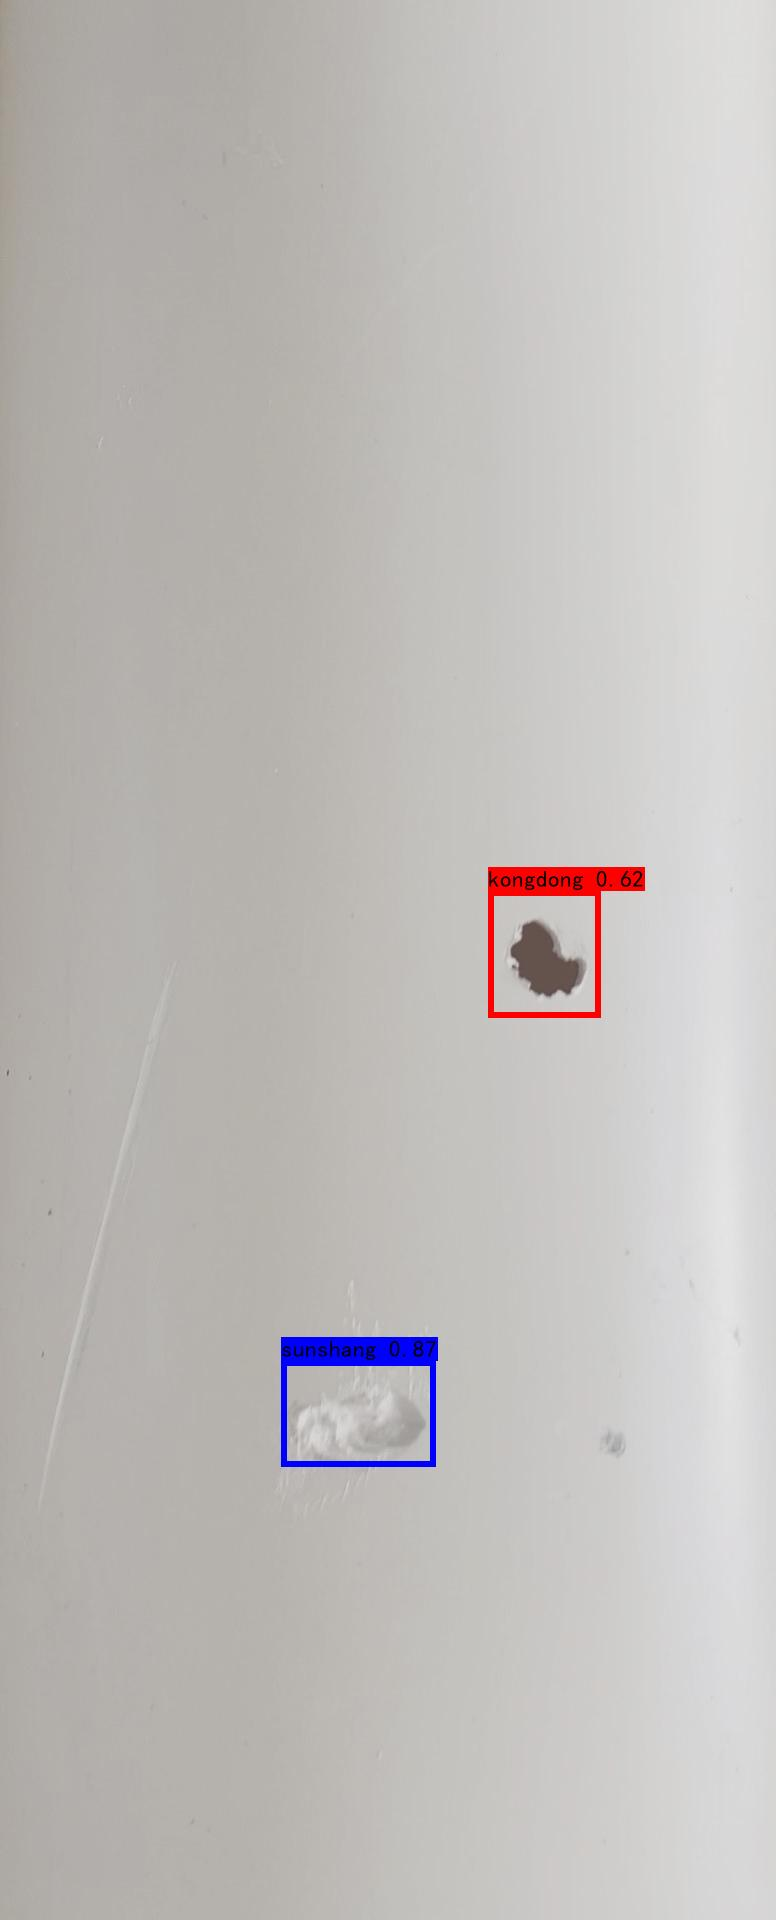kongdong: (488, 909, 601, 1013)
sunshang: (33, 951, 226, 1531), (274, 1374, 450, 1483)
